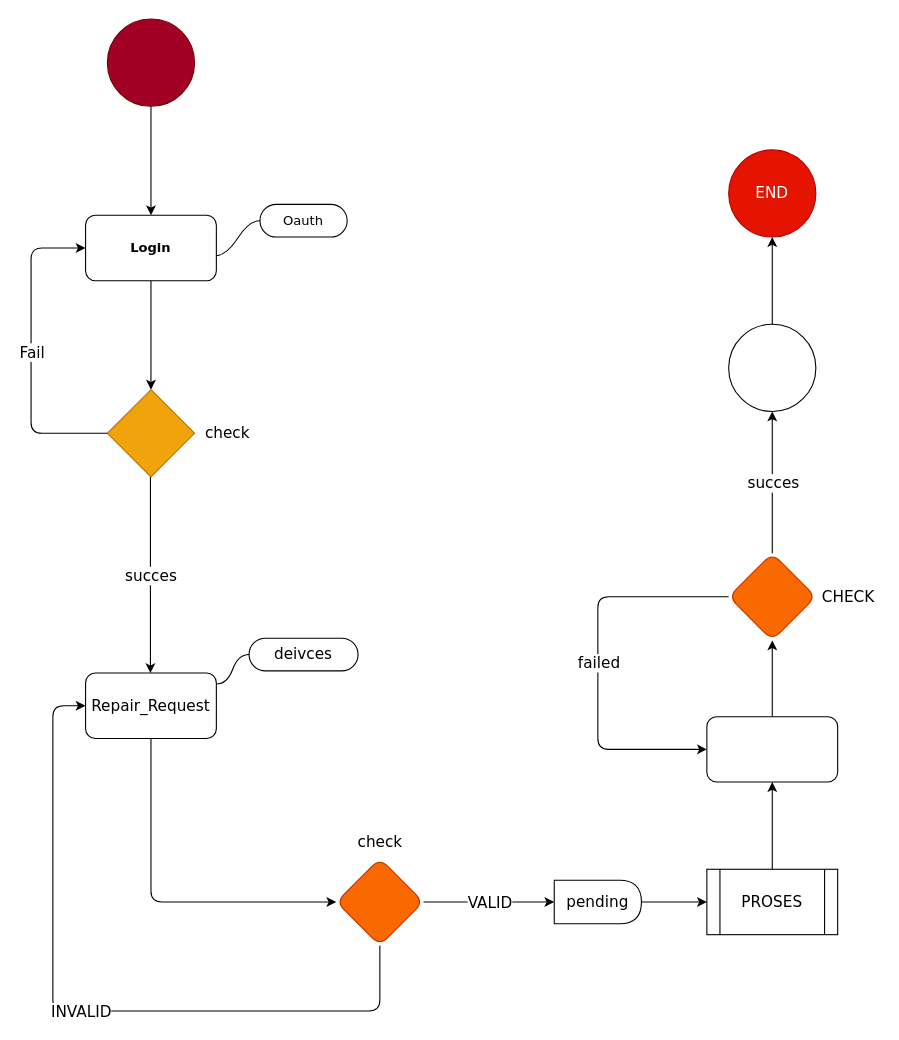
This 899x1040 diagram has some shape labels left out. Here are the shapes that lost their labels. From the top down, the centre of each, then its label:
At (150,62): "START".
At (772,367): "notif".
At (772,749): "Transaction".
